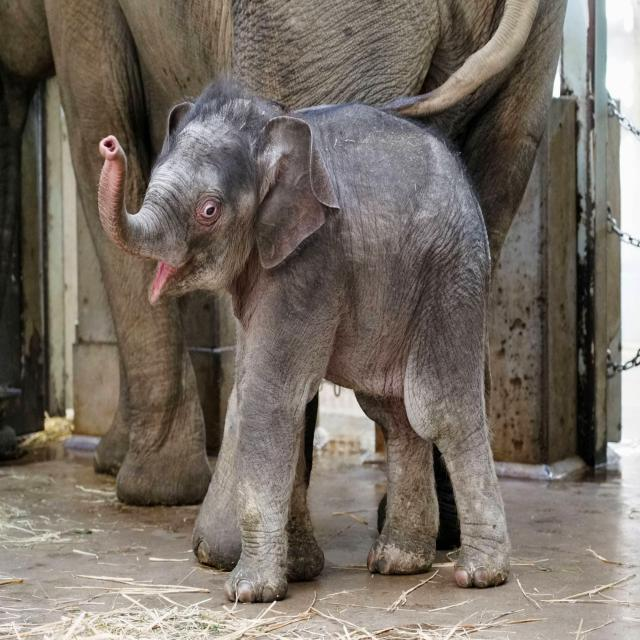elephant: (98, 82, 510, 602)
